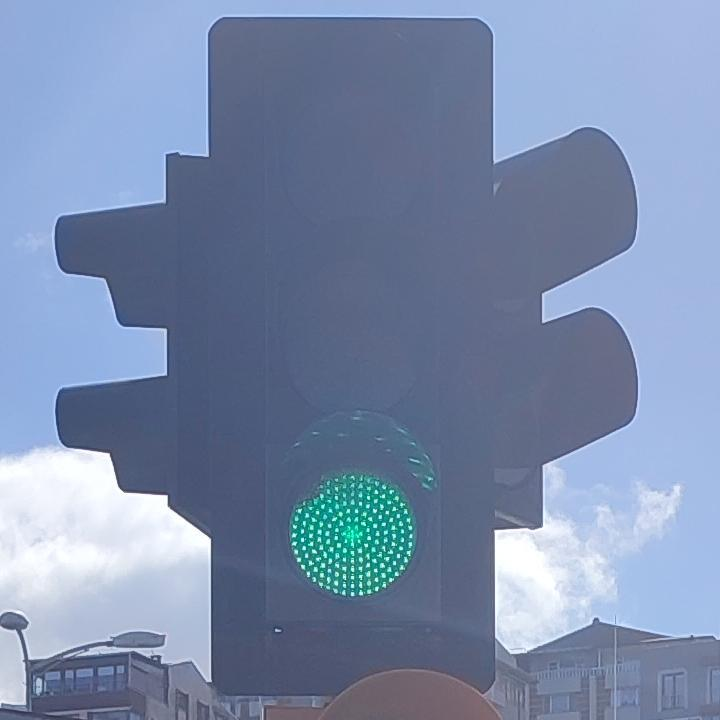green: (0, 18, 678, 694)
